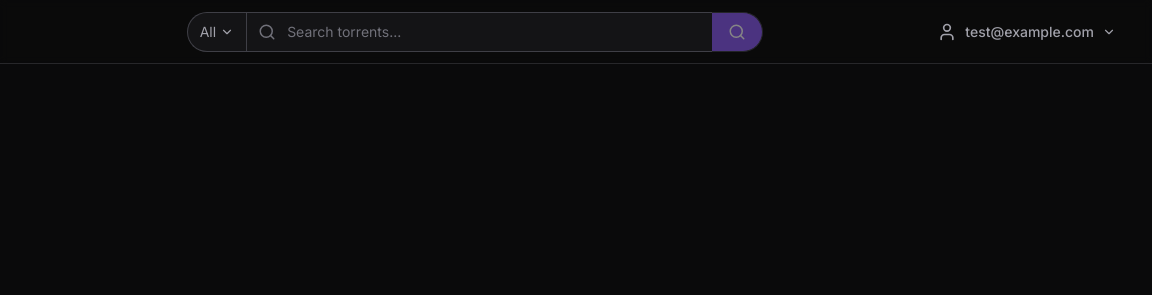
it: Header Component › Logged In State - User Dropdown › should show Switch Profile link in dropdown
The image size is (1152, 295).
Click the button with test id "user-dropdown-trigger". click: click(1027, 32)
box: [925,14,1128,50]
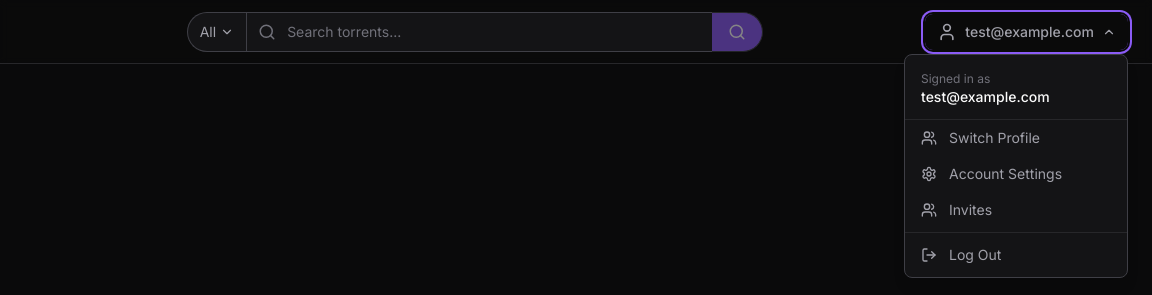
Result: the link "Switch Profile" is shown at [921,128,1040,146]
